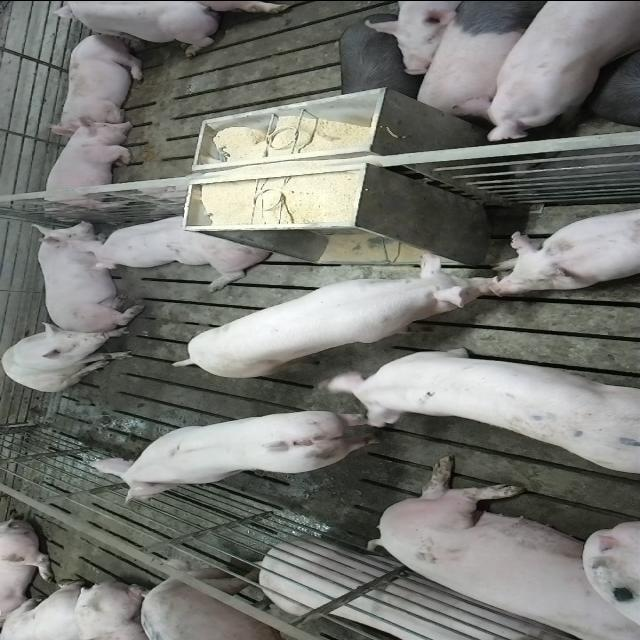Lateral_lying: (364, 452, 636, 636), (261, 537, 578, 640), (332, 12, 423, 100)
Sitting: (3, 321, 139, 391)
Standing: (312, 343, 636, 478), (175, 253, 485, 379), (83, 407, 386, 502), (467, 2, 640, 142), (142, 559, 372, 640), (410, 2, 560, 120)
Sternal_lying: (83, 210, 274, 284), (489, 202, 638, 292), (27, 221, 136, 327), (52, 30, 150, 132), (38, 116, 138, 215), (41, 3, 224, 57)
